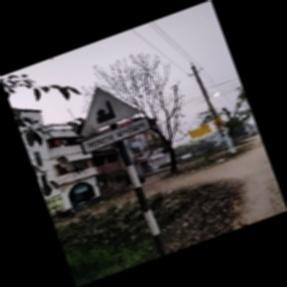Mosque in front: (76, 85, 156, 156)
